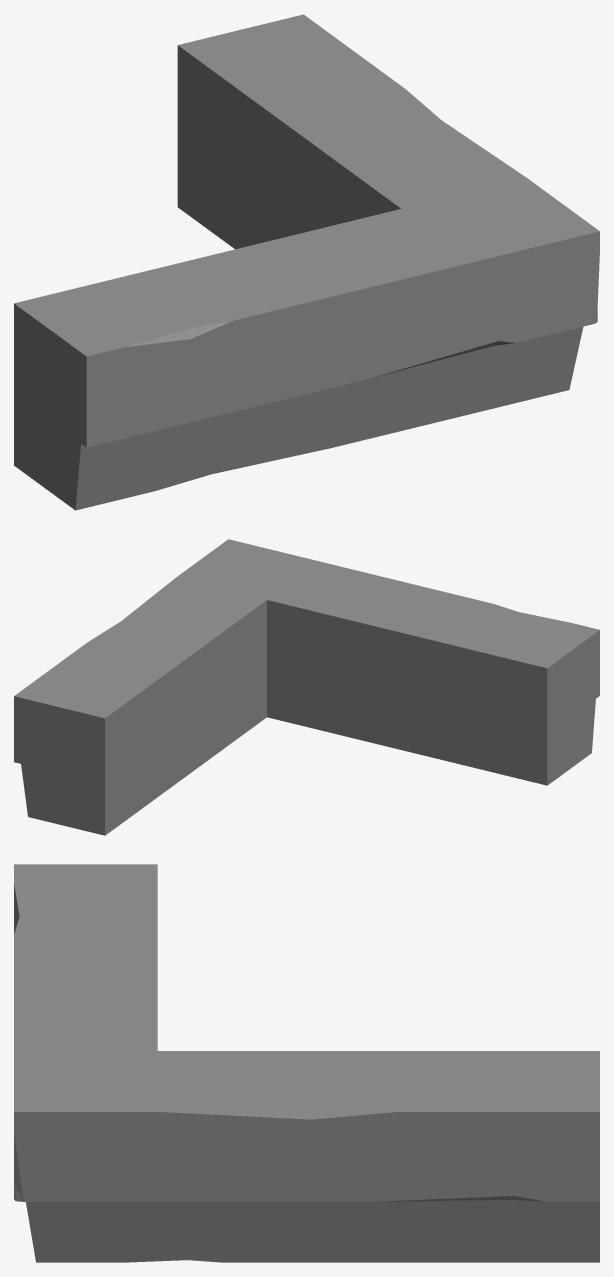
The model's file is SW_ENV_ConcreteLedge_OuterCrnr.fbx.
3 views of the same model, one above another, from view 1: azimuth 30°, elevation 25°; view 2: azimuth 150°, elevation 25°; view 3: azimuth 270°, elevation 25° (orthographic). The views are drawn at different scales.
Visible parts, largest first — view 1: SW_ENV_ConcreteLedge_OuterCrnr; view 2: SW_ENV_ConcreteLedge_OuterCrnr; view 3: SW_ENV_ConcreteLedge_OuterCrnr.
Boxes of the visible parts, bbox=[...] form: SW_ENV_ConcreteLedge_OuterCrnr: bbox=[14, 14, 599, 510]; SW_ENV_ConcreteLedge_OuterCrnr: bbox=[14, 539, 599, 835]; SW_ENV_ConcreteLedge_OuterCrnr: bbox=[14, 864, 599, 1262].
Size of the model in its own units: 133 by 40 by 133.
